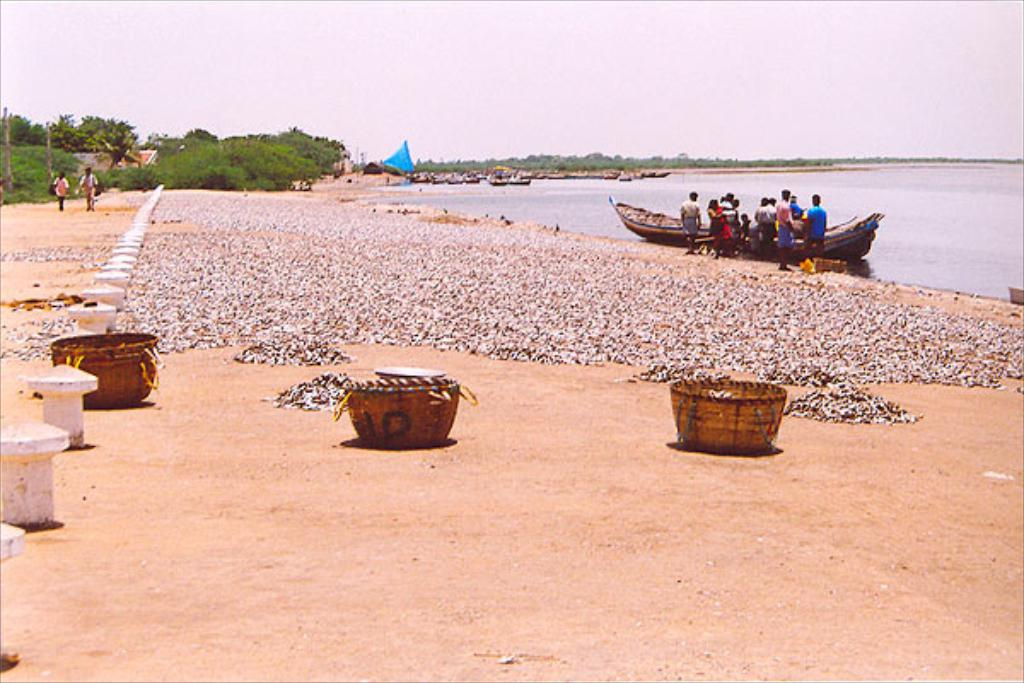boat: (731, 205, 907, 266), (593, 184, 721, 250)
